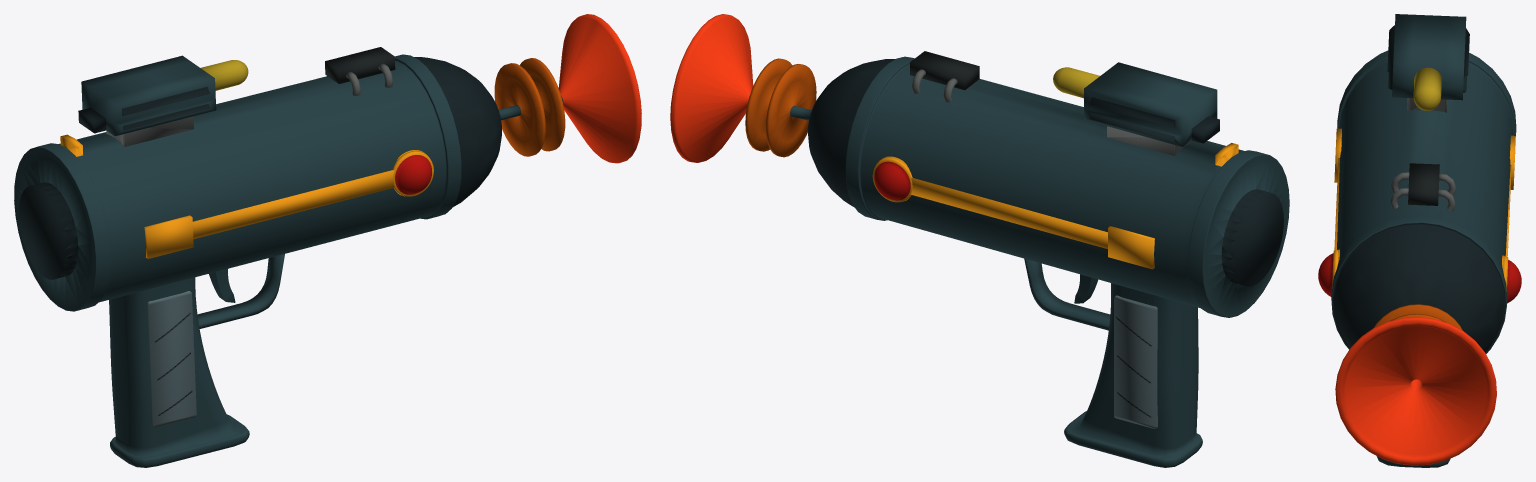
The model's file is ray_gun2.dae.
3 views of the same model, side by side, from view 1: azimuth 30°, elevation 25°; view 2: azimuth 150°, elevation 25°; view 3: azimuth 270°, elevation 25° (orthographic). The views are drawn at different scales.
Parts seen in each view (by area): view 1: Sphere057, Box108, Box106, Box114, Box115, Box110, Box116, Box107, Sphere060, Sphere058; view 2: Sphere057, Box108, Box106, Box113, Box111, Box110, Box107, Box112, Sphere059, Sphere058; view 3: Sphere057, Box106, Box107, Sphere058, Sphere060, Sphere059, Box108, Box116, Box112, Box115.
Part boxes in pixels (bbox=[...]): Sphere057: bbox=[14, 14, 641, 311]; Box108: bbox=[109, 277, 249, 467]; Box106: bbox=[78, 55, 216, 146]; Box114: bbox=[147, 291, 196, 427]; Box115: bbox=[192, 170, 394, 239]; Box110: bbox=[197, 254, 284, 328]; Box116: bbox=[144, 215, 193, 258]; Box107: bbox=[325, 47, 395, 83]; Sphere060: bbox=[393, 150, 433, 196]; Sphere058: bbox=[201, 60, 248, 90]; Sphere057: bbox=[670, 14, 1289, 317]; Box108: bbox=[1064, 283, 1202, 467]; Box106: bbox=[1084, 62, 1219, 155]; Box113: bbox=[1114, 295, 1157, 428]; Box111: bbox=[911, 178, 1107, 248]; Box110: bbox=[1024, 258, 1110, 330]; Box107: bbox=[910, 51, 979, 90]; Box112: bbox=[1108, 226, 1154, 269]; Sphere059: bbox=[872, 156, 912, 202]; Sphere058: bbox=[1053, 67, 1099, 98]; Sphere057: bbox=[1331, 50, 1516, 465]; Box106: bbox=[1387, 14, 1469, 112]; Box107: bbox=[1408, 163, 1439, 205]; Sphere058: bbox=[1413, 67, 1441, 110]; Sphere060: bbox=[1318, 249, 1339, 296]; Sphere059: bbox=[1502, 255, 1521, 302]; Box108: bbox=[1376, 456, 1450, 467]; Box116: bbox=[1334, 128, 1341, 182]; Box112: bbox=[1509, 135, 1515, 189]; Box115: bbox=[1334, 158, 1339, 250].
Size of the model in its own units: 23.46 by 14.82 by 6.97.
10 materials, 1 textured.
